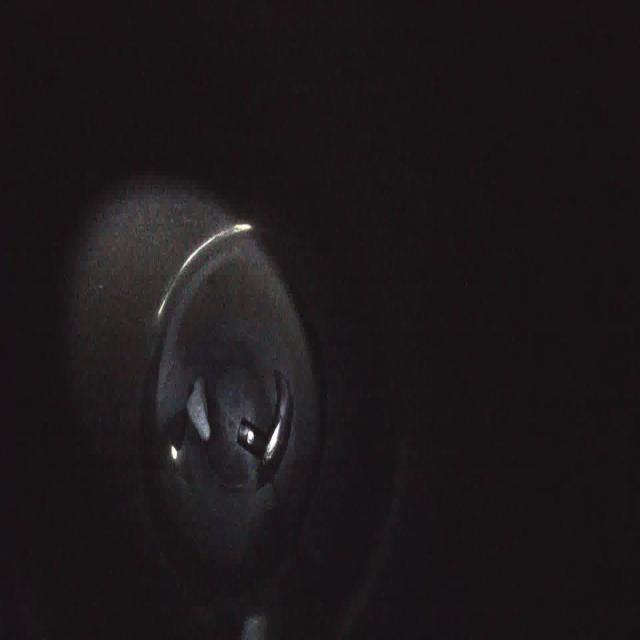impurity: (181, 372, 217, 444)
